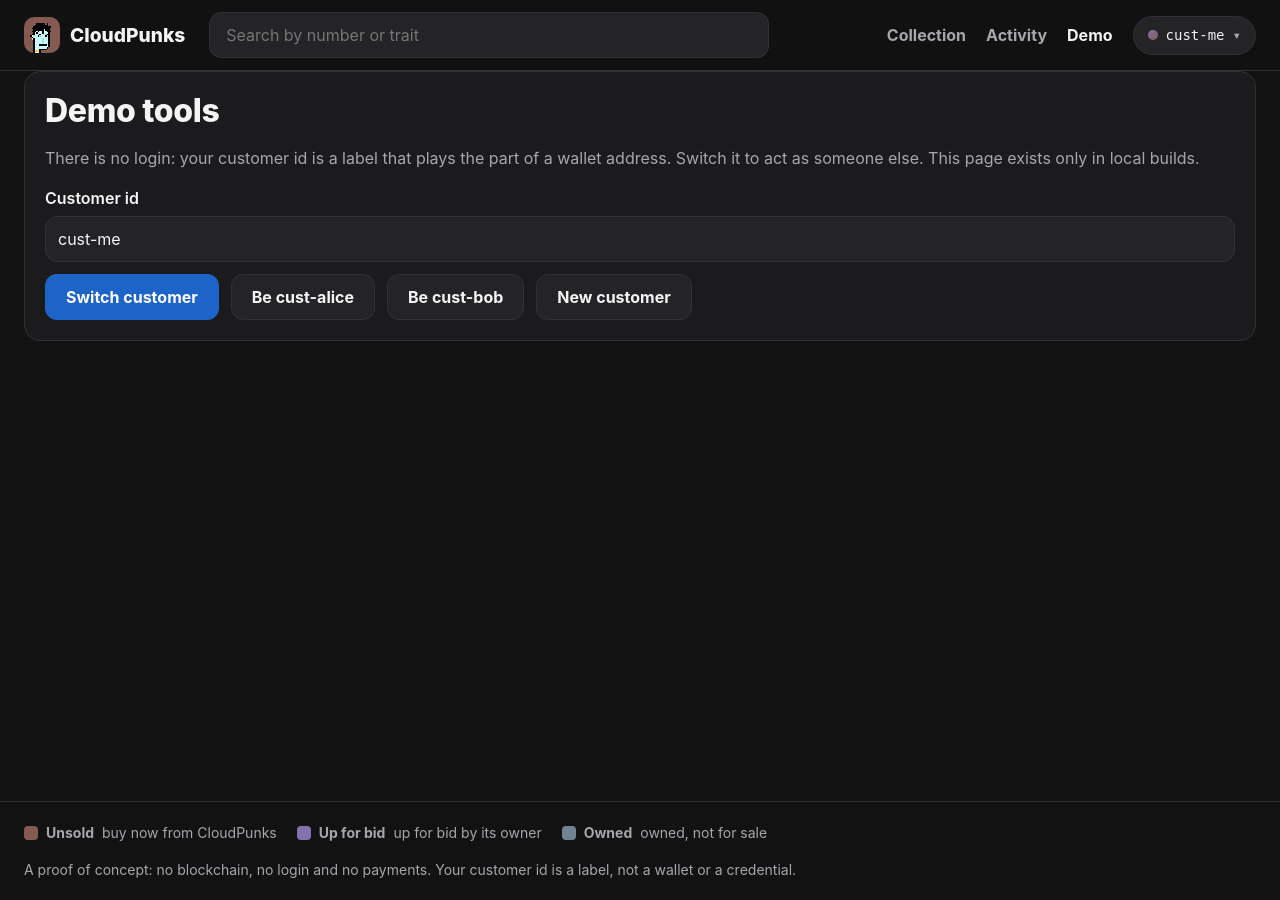
Test: demo tools › refuses an id the API would refuse
Replace the text in the field labelled "Customer id" with "not valid!": (640, 239) [45, 216, 1235, 262]
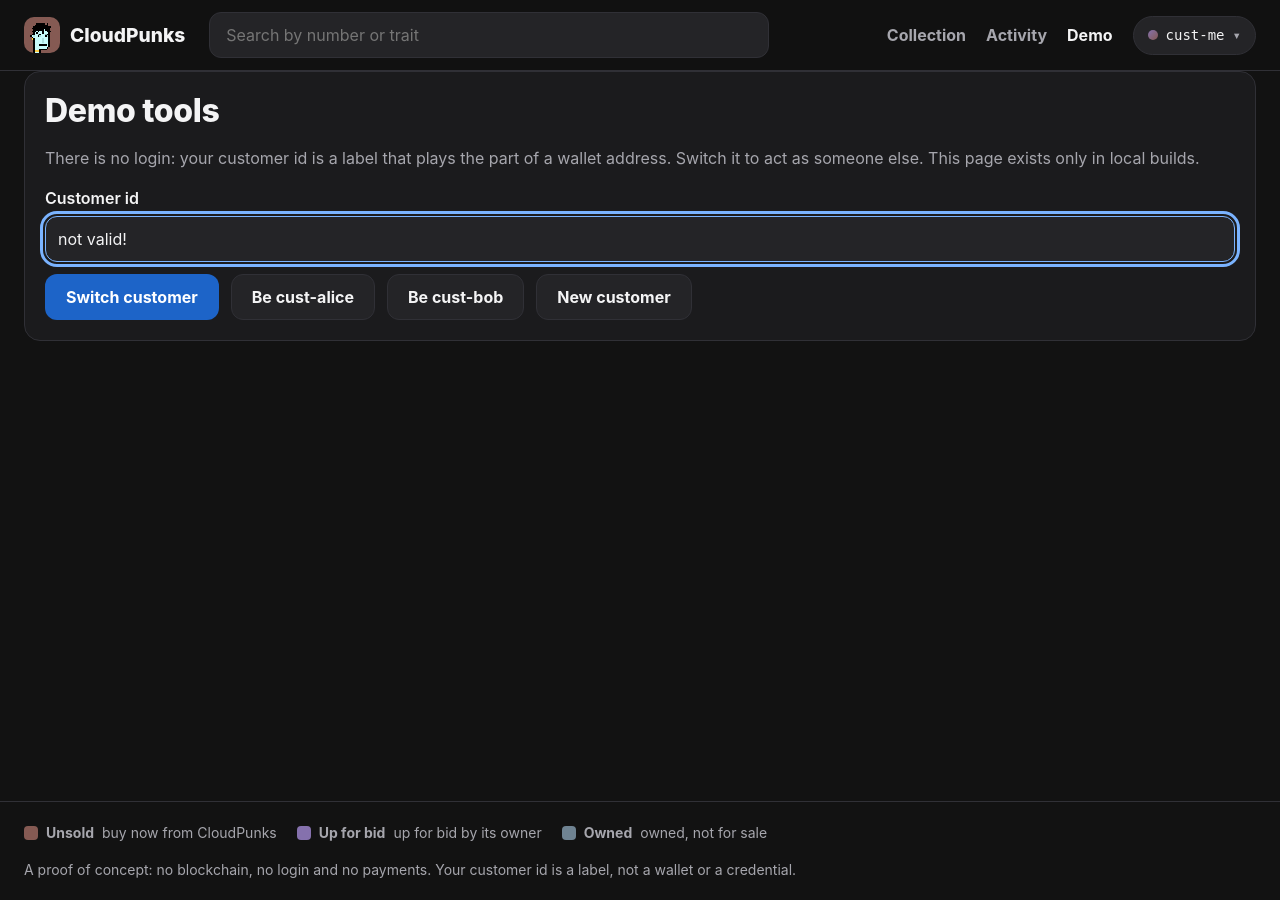
Click the button "Switch customer": (132, 297) [45, 274, 219, 320]
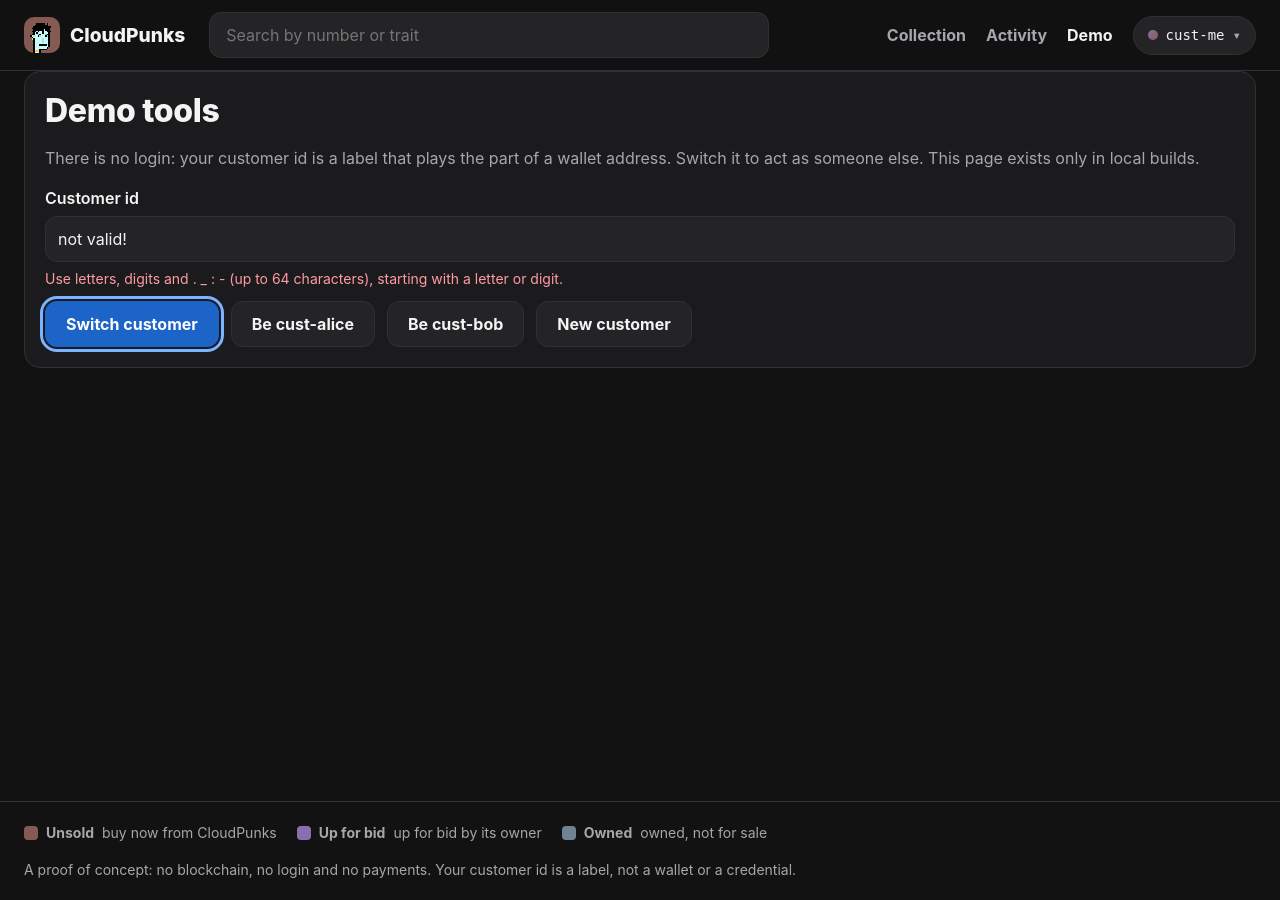
Check: the heading "cust-me" is shown, box [1132, 16, 1256, 54]
Check: the text "Use letters, digits" is shown, box [45, 270, 563, 287]
